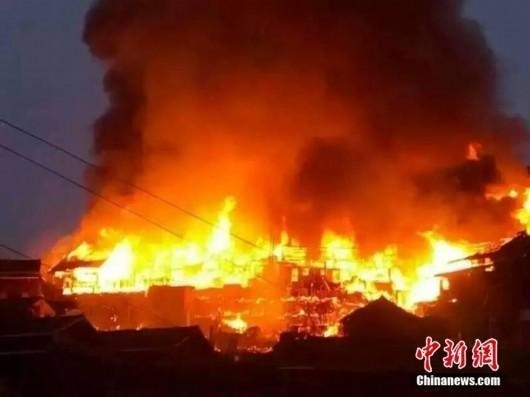fire: (63, 188, 486, 336)
